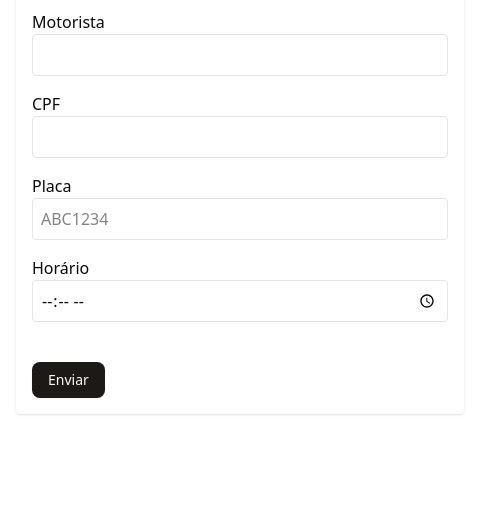
it: DriverForm › mostra erro para placa inválida
Type "XYZ123" into the field labelled "Placa". click: (240, 219)
box: [32,198,448,240]
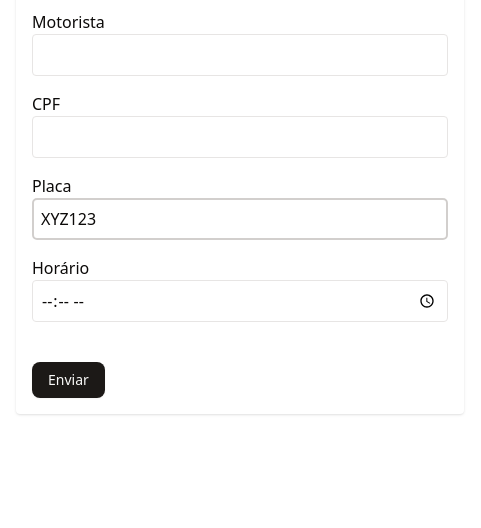
Click the button "Enviar". click: (68, 380)
box: [32,362,105,398]
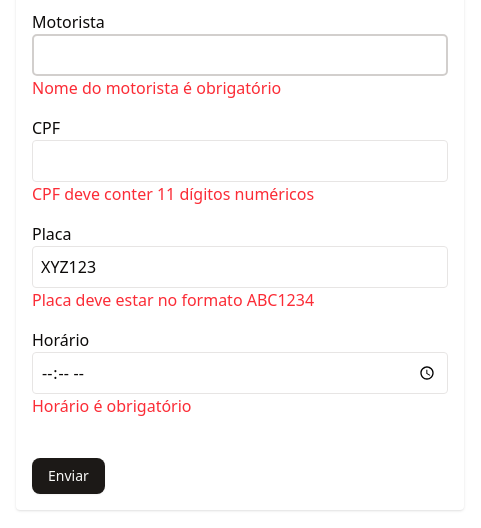
Now the text "Placa deve estar no formato ABC1234" is shown, box [32,289,314,311]
